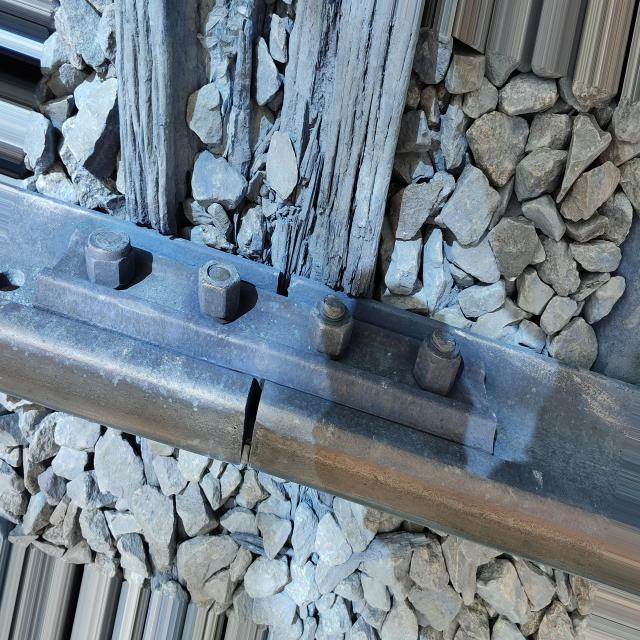Good Joint: (32, 230, 496, 451)
